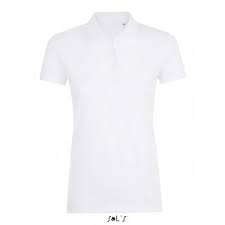C_polo shirt: (42, 11, 186, 213)
